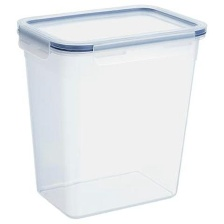plastic_box: (9, 0, 214, 224)
